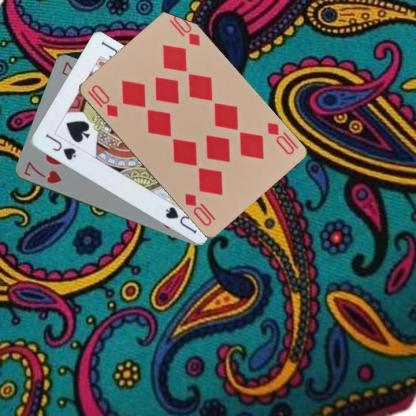10d: (84, 82, 119, 118), (264, 120, 296, 156)
7h: (22, 159, 62, 185)
Js: (42, 130, 78, 161)
